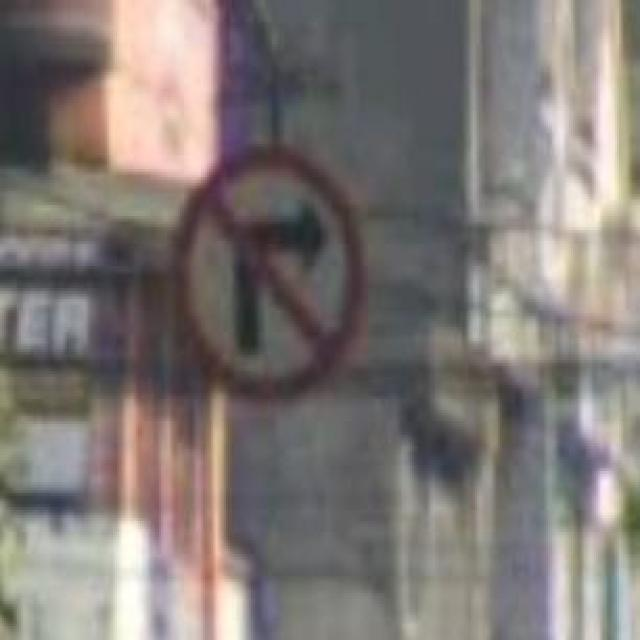traffic sign: (176, 147, 364, 402)
